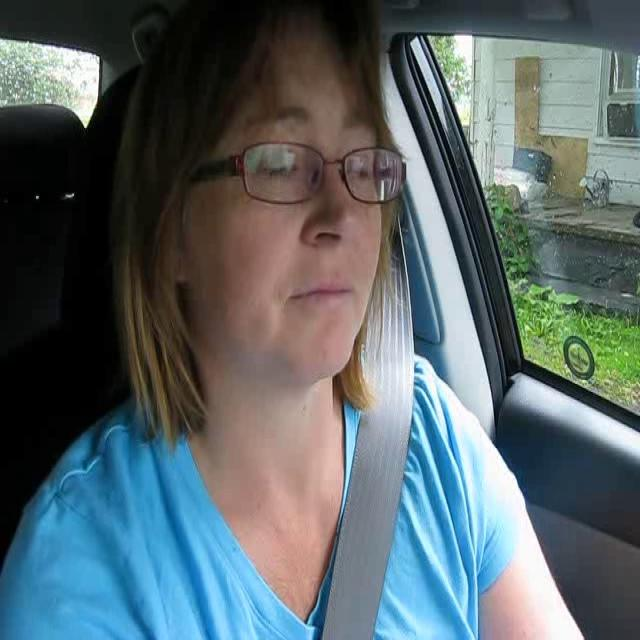close: (280, 272, 364, 310)
